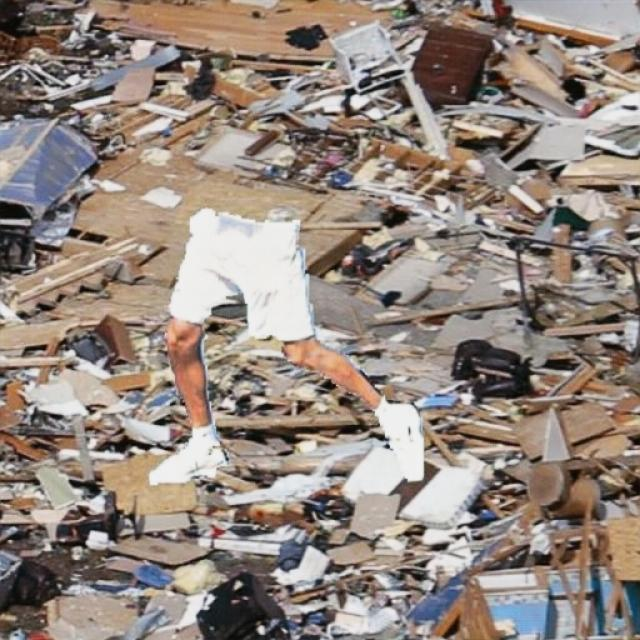Person in Rubble: (148, 207, 422, 483)
